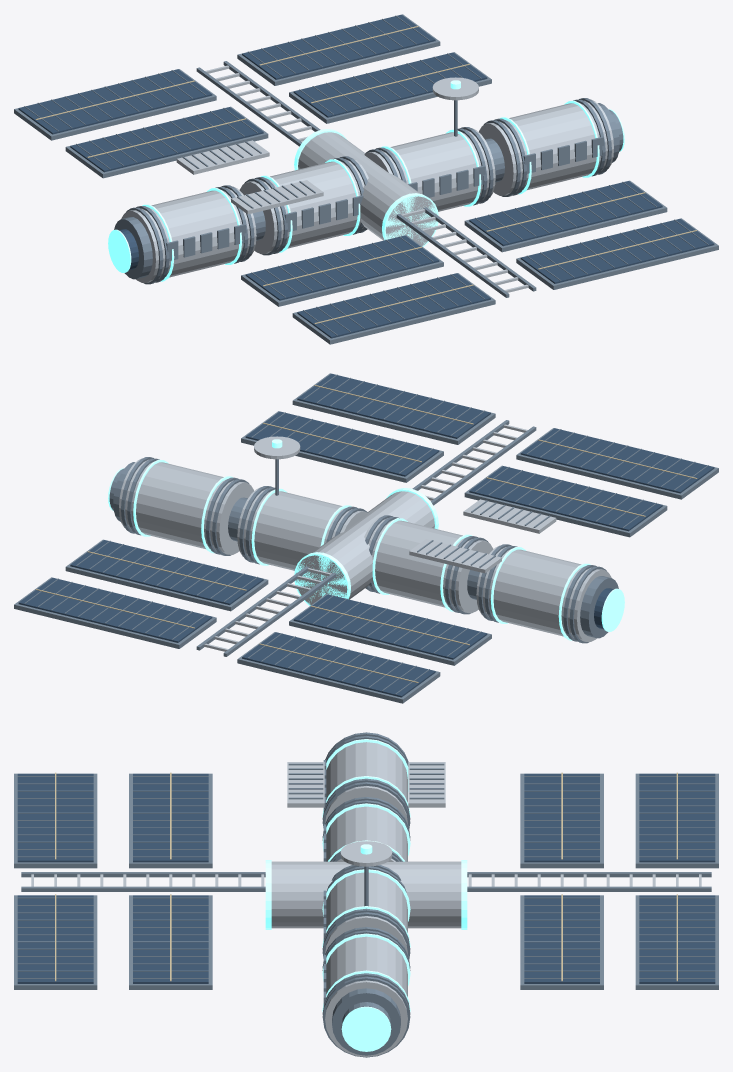
File: twisters-station-solid.glb
3 renders of one model, top to bottom at view 1: azimuth 30°, elevation 25°; view 2: azimuth 150°, elevation 25°; view 3: azimuth 270°, elevation 25°, orthographic. The views are drawn at different scales.
Visible parts, largest first — view 1: Habitat-4, Habitat-1, Solar-cells-1-0--1, Solar-cells--1-1-1, Solar-cells-1-0-1, Solar-cells-1-1-1, Solar-cells--1-1--1, Solar-cells-1-1--1, Solar-cells--1-0--1, Solar-cells--1-0-1, Habitat-2, Cross-habitat (+17 smaller); view 2: Habitat-4, Habitat-1, Habitat-2, Habitat-3, Solar-cells--1-0--1, Solar-cells--1-0-1, Solar-cells--1-1-1, Solar-cells-1-1-1, Solar-cells-1-1--1, Solar-cells--1-1--1, Solar-cells-1-0--1, Solar-cells-1-0-1 (+17 smaller); view 3: Cross-habitat, Solar-cells--1-1--1, Solar-cells-1-1--1, Solar-cells--1-1-1, Solar-cells-1-1-1, Solar-cells--1-0--1, Solar-cells-1-0--1, Solar-cells--1-0-1, Solar-cells-1-0-1, Habitat-4, Habitat-1, Habitat-3 (+19 smaller).
Boxes of the visible parts, bbox=[...] form: Habitat-4: bbox=[479, 99, 613, 195]; Habitat-1: bbox=[121, 186, 256, 282]; Solar-cells-1-0--1: bbox=[245, 235, 439, 300]; Solar-cells--1-1-1: bbox=[242, 14, 435, 79]; Solar-cells-1-0-1: bbox=[469, 181, 662, 246]; Solar-cells-1-1-1: bbox=[520, 218, 714, 283]; Solar-cells--1-1--1: bbox=[18, 69, 212, 134]; Solar-cells-1-1--1: bbox=[297, 273, 490, 338]; Solar-cells--1-0--1: bbox=[70, 107, 263, 172]; Solar-cells--1-0-1: bbox=[293, 52, 487, 117]; Habitat-2: bbox=[239, 157, 368, 254]; Cross-habitat: bbox=[298, 132, 436, 245]; Habitat-4: bbox=[119, 458, 253, 554]; Habitat-1: bbox=[476, 545, 611, 641]; Habitat-2: bbox=[364, 516, 493, 613]; Habitat-3: bbox=[237, 487, 368, 570]; Solar-cells--1-0--1: bbox=[293, 594, 487, 659]; Solar-cells--1-0-1: bbox=[70, 540, 263, 605]; Solar-cells--1-1-1: bbox=[18, 577, 212, 642]; Solar-cells-1-1-1: bbox=[297, 373, 490, 438]; Solar-cells-1-1--1: bbox=[520, 428, 714, 493]; Solar-cells--1-1--1: bbox=[242, 632, 435, 697]; Solar-cells-1-0--1: bbox=[469, 466, 662, 531]; Solar-cells-1-0-1: bbox=[245, 411, 439, 476]; Cross-habitat: bbox=[271, 861, 461, 928]; Solar-cells--1-1--1: bbox=[639, 773, 715, 862]; Solar-cells-1-1--1: bbox=[17, 773, 93, 862]; Solar-cells--1-1-1: bbox=[639, 895, 715, 983]; Solar-cells-1-1-1: bbox=[17, 895, 93, 983]; Solar-cells--1-0--1: bbox=[524, 773, 599, 862]; Solar-cells-1-0--1: bbox=[133, 773, 208, 862]; Solar-cells--1-0-1: bbox=[524, 895, 599, 983]; Solar-cells-1-0-1: bbox=[133, 895, 208, 983]; Habitat-4: bbox=[325, 936, 407, 1056]; Habitat-1: bbox=[325, 742, 407, 823]; Habitat-3: bbox=[325, 872, 407, 953].
Bounding box in the file's own units: 11.06 × 2.62 × 12.25.
